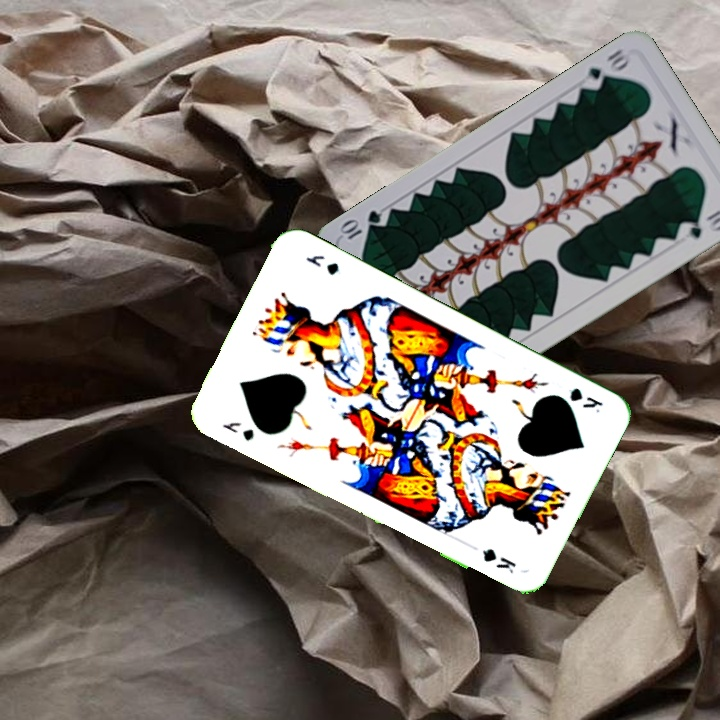G10: (578, 45, 632, 94)
GK: (565, 383, 606, 416), (218, 417, 257, 443)
